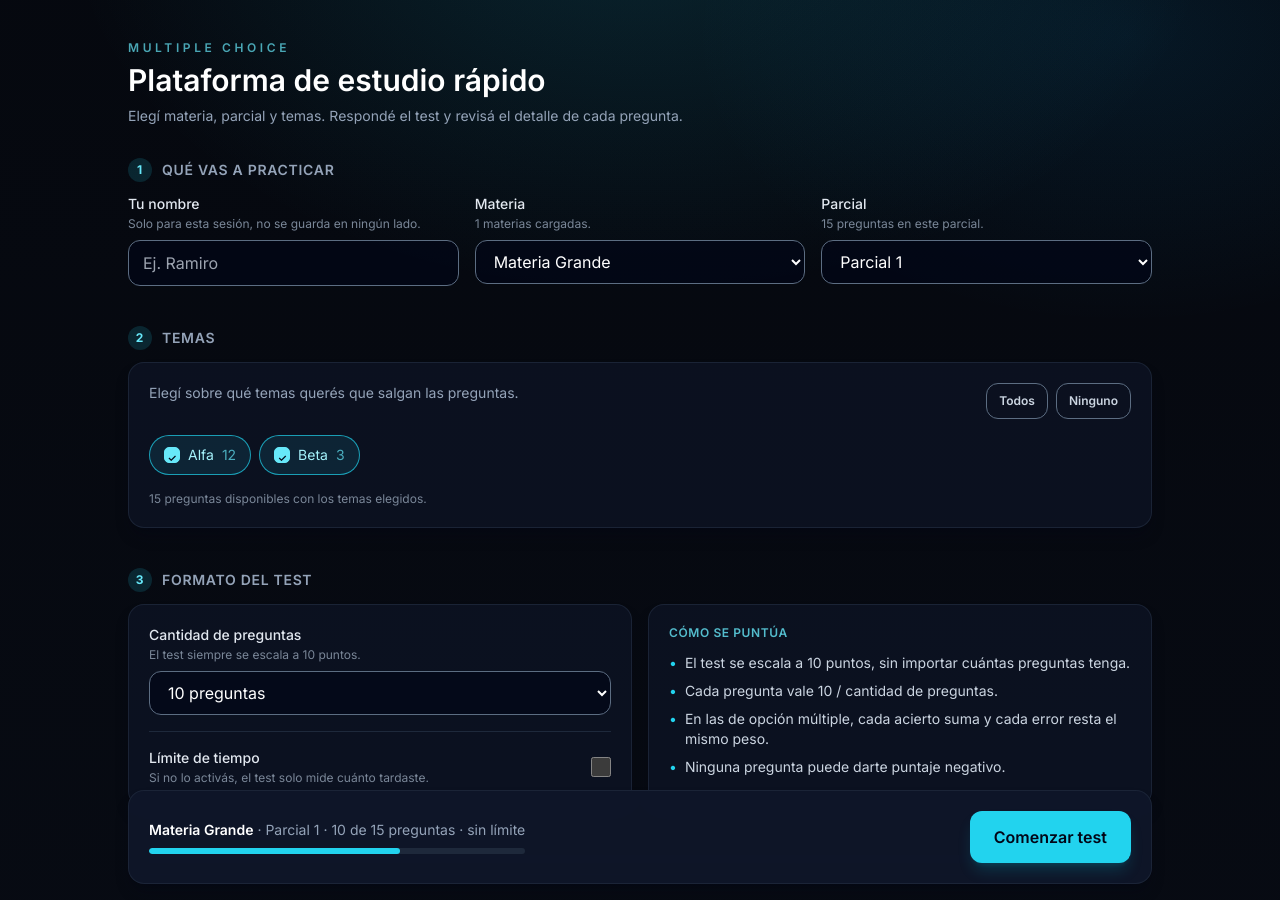
Test: TestApp · pantalla de inicio › mantiene el selector de cantidad sincronizado con las preguntas disponibles
Select "10 preguntas" in the dropdown labelled "Cantidad de preguntas" at (380, 693), box [149, 671, 611, 715]
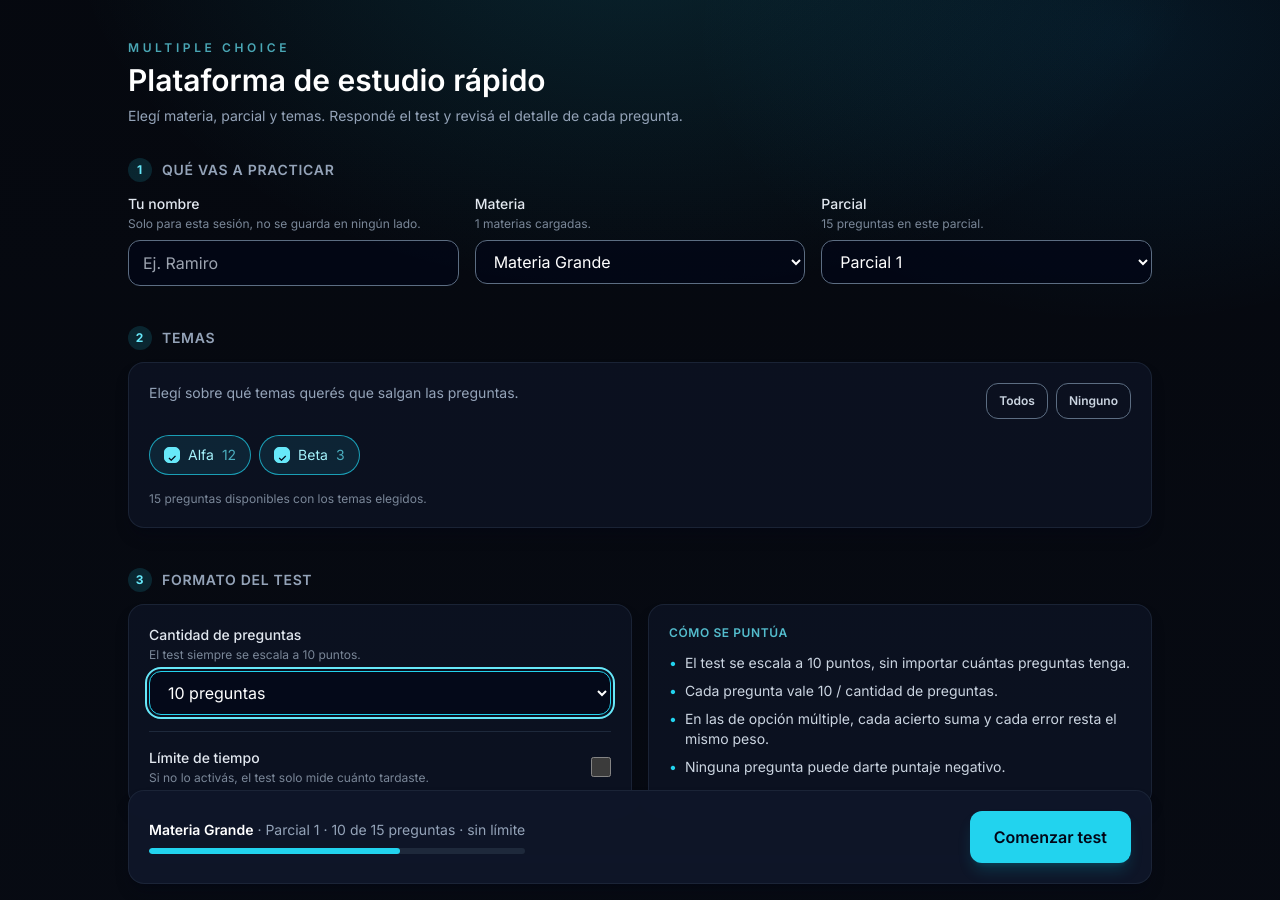
Click the button "✓ Alfa 12".
click(200, 455)  # box [149, 435, 251, 475]
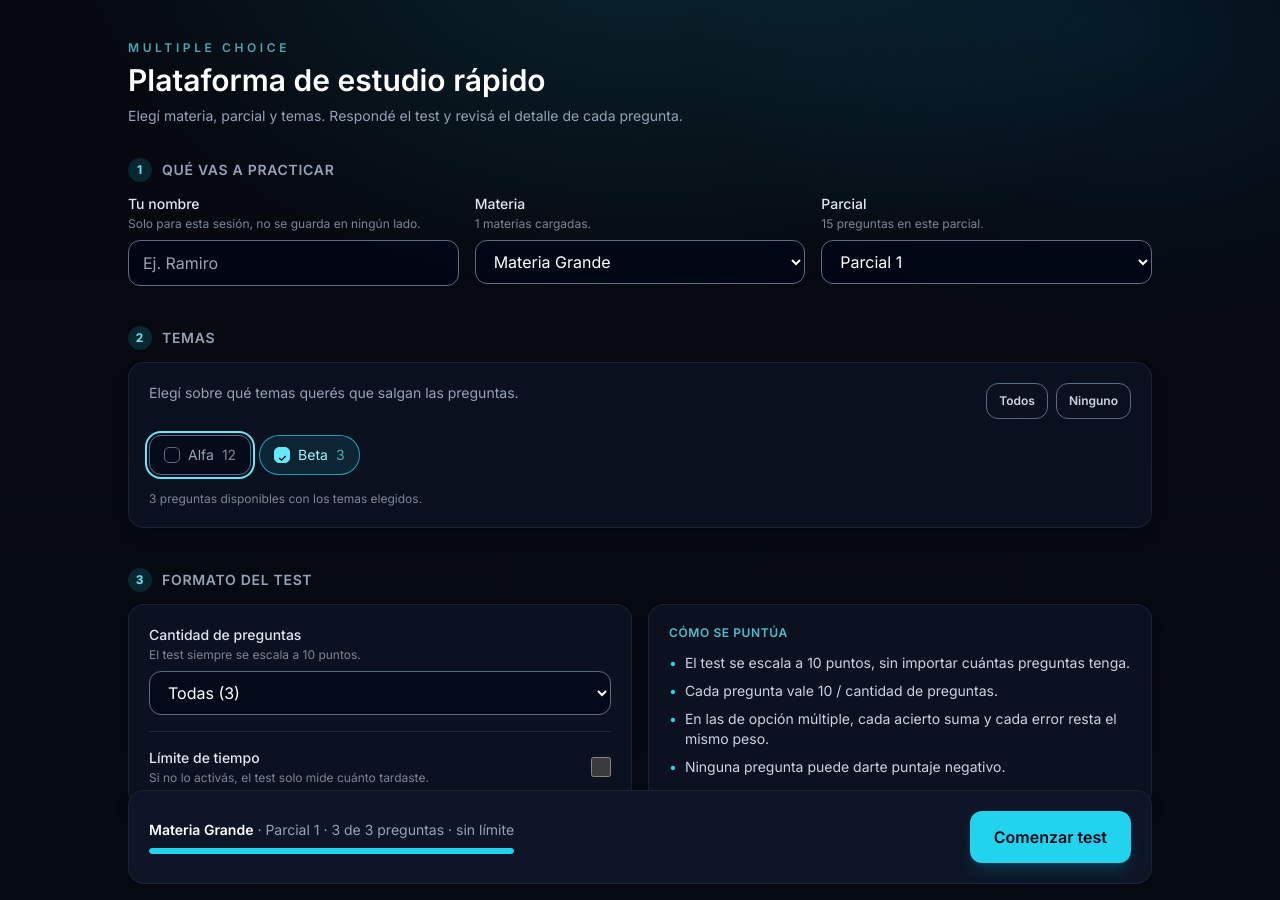
Click the button "Comenzar test".
click(1050, 837)  # box [970, 811, 1131, 863]
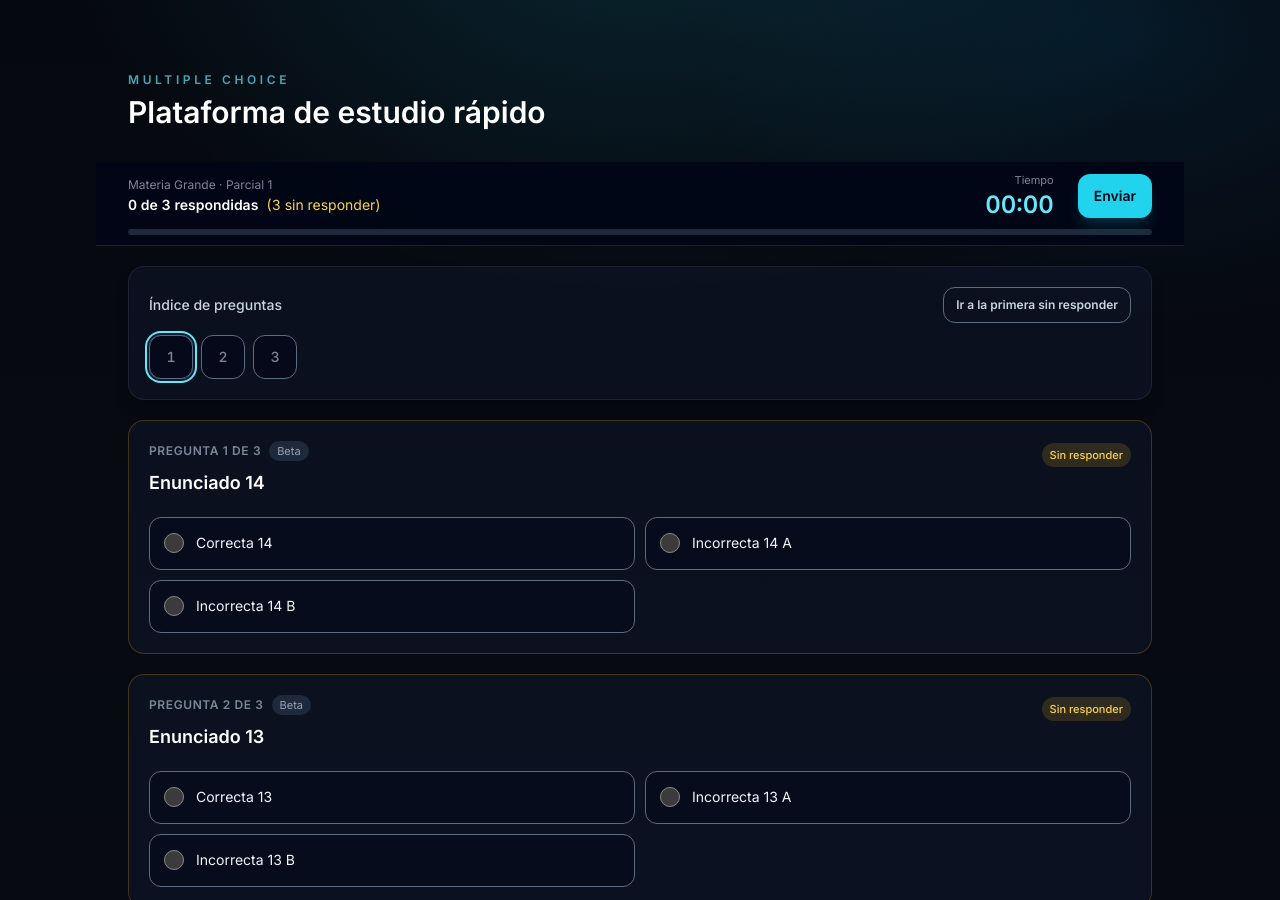
Expected: the text "0 de 3 respondidas(3 sin responder)" is shown, [128, 196, 381, 213]
